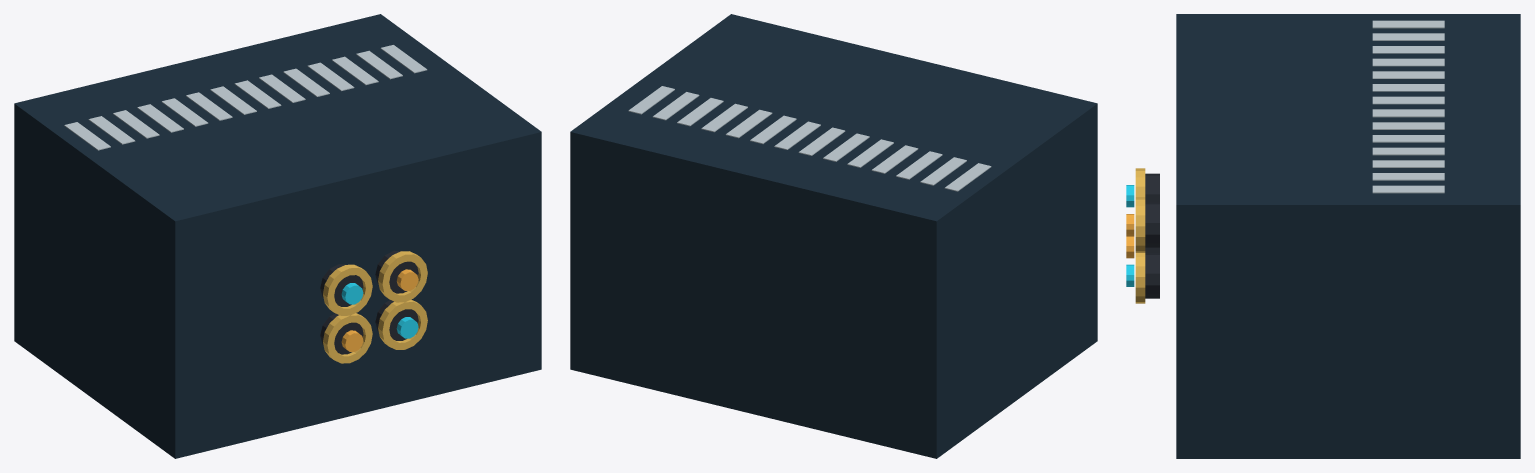
File: 55_L82_SwitchModePowerConverterModel.fbx
3 renders of one model, left to right at view 1: azimuth 30°, elevation 25°; view 2: azimuth 150°, elevation 25°; view 3: azimuth 270°, elevation 25°, orthographic. The views are drawn at different scales.
Visible parts, largest first — view 1: SwitchModePowerConverterModel; view 2: SwitchModePowerConverterModel; view 3: SwitchModePowerConverterModel.
Part boxes in pixels (x1=…): SwitchModePowerConverterModel: x1=14, y1=14, x2=541, y2=458; SwitchModePowerConverterModel: x1=570, y1=14, x2=1097, y2=458; SwitchModePowerConverterModel: x1=1126, y1=14, x2=1520, y2=458.
Bounding box in the file's own units: 113 × 70.25 × 98.5.
